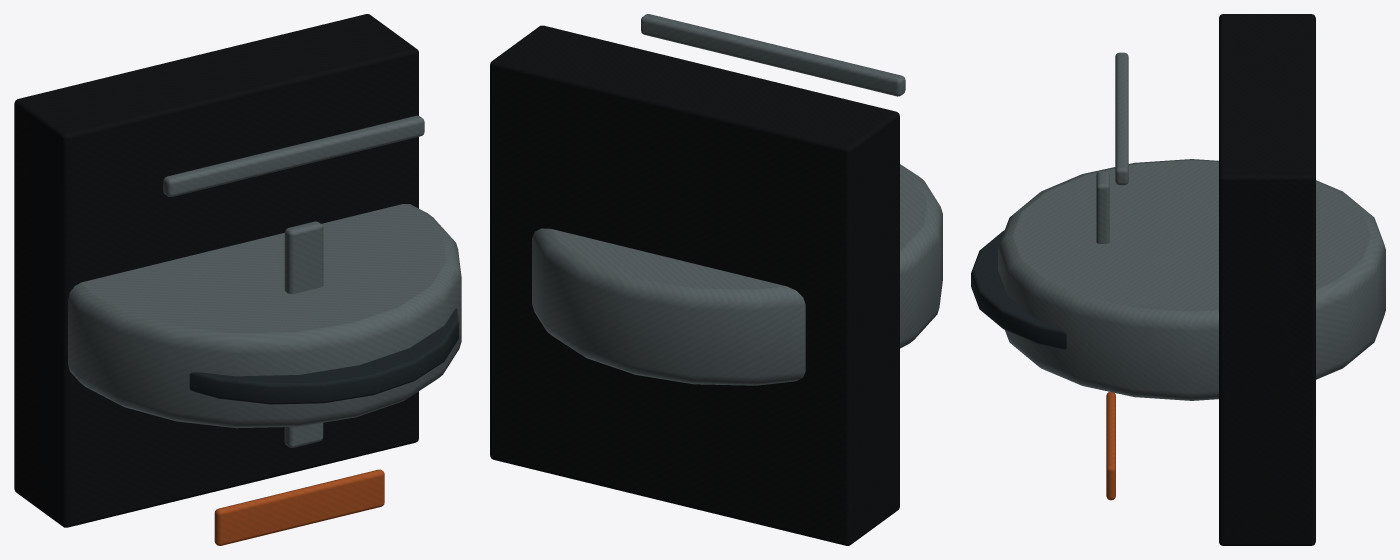
The model's file is IndustrialFan.fbx.
The picture shows the model from 3 angles, left to right: view 1: azimuth 30°, elevation 25°; view 2: azimuth 150°, elevation 25°; view 3: azimuth 270°, elevation 25°; orthographic projection. The views are drawn at different scales.
Visible parts, largest first — view 1: IndustrialFan_Mesh; view 2: IndustrialFan_Mesh; view 3: IndustrialFan_Mesh.
Boxes of the visible parts, x1,y1,x2,y2 form: IndustrialFan_Mesh: [14, 14, 461, 545]; IndustrialFan_Mesh: [490, 14, 942, 545]; IndustrialFan_Mesh: [971, 14, 1385, 545].
Size of the model in its own units: 72 by 76 by 77.
